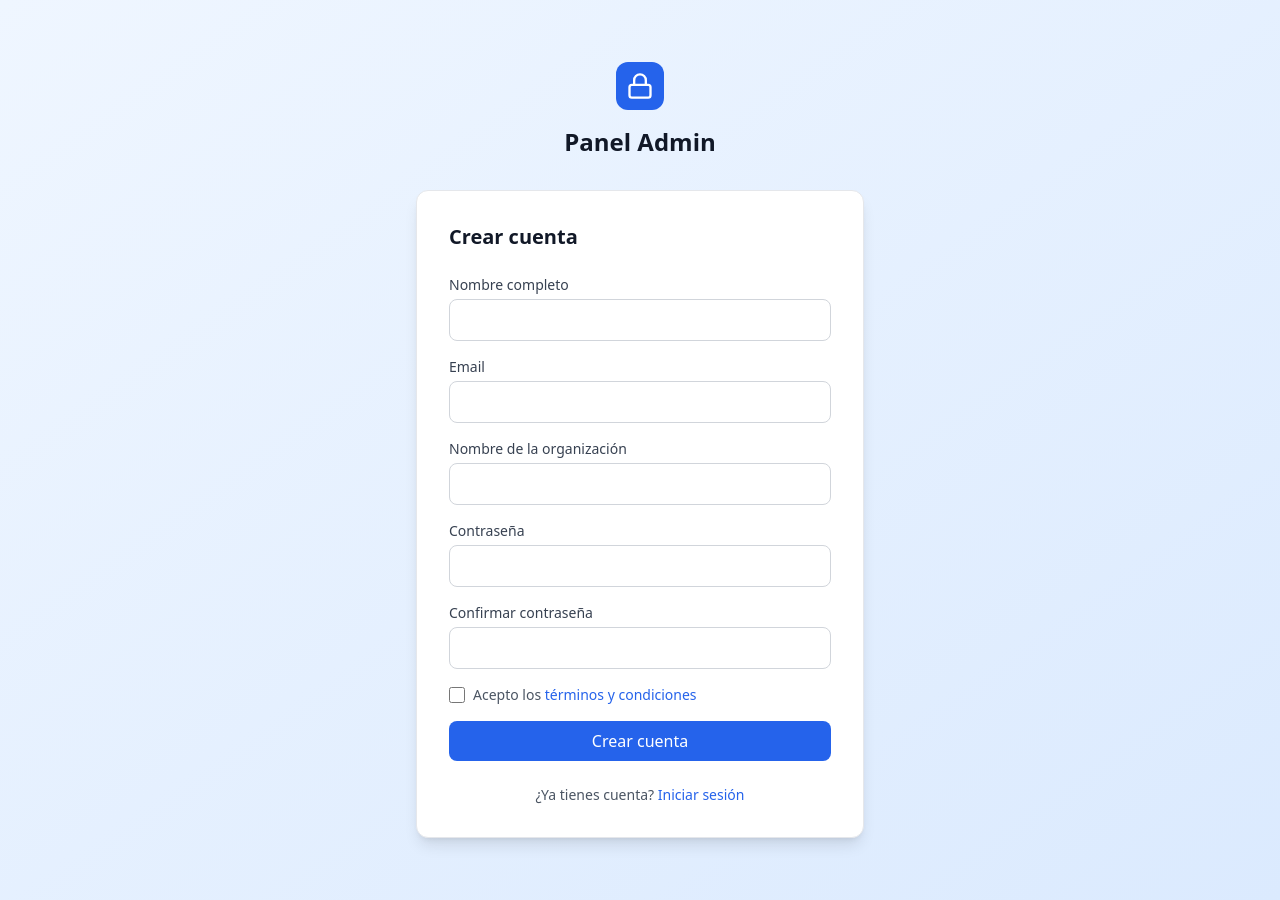
RegisterPage › shows validation error for invalid email
The image size is (1280, 900).
In the field labelled "Email": (640, 402) [449, 381, 831, 423], type "not-an-email"
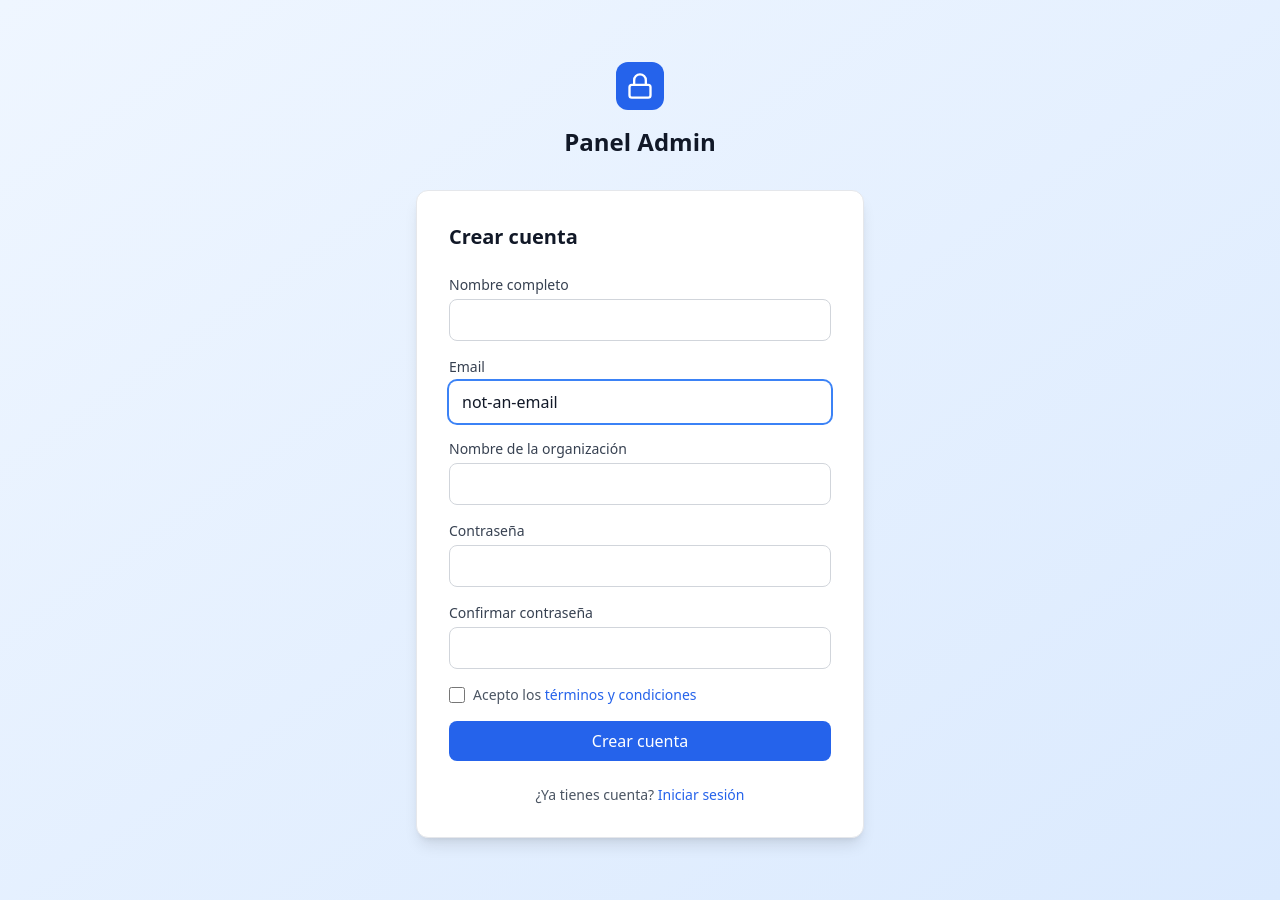
Click the button "Crear cuenta": (640, 741) [449, 721, 831, 761]
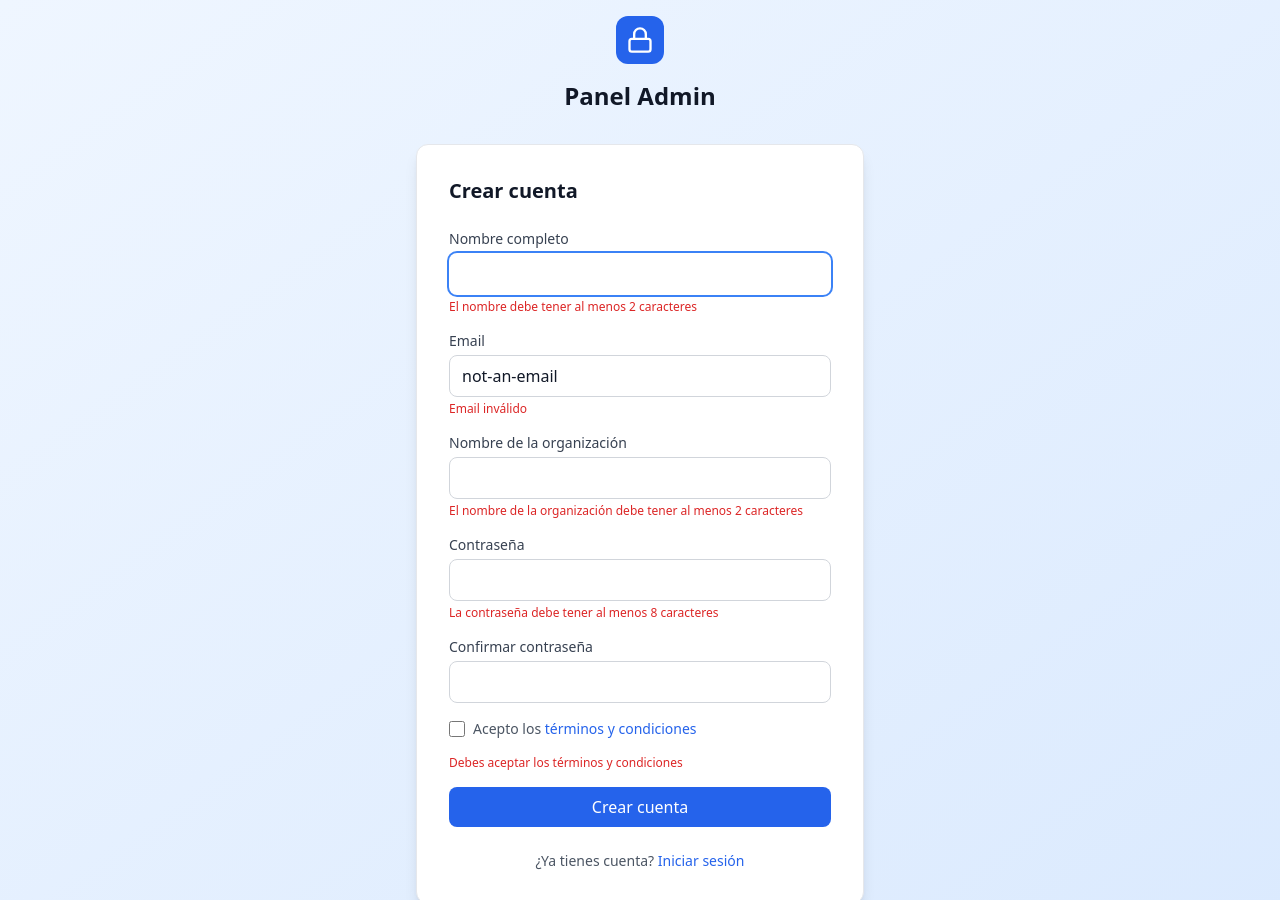
Check: the text "Email inválido" is shown, box [449, 400, 527, 417]
